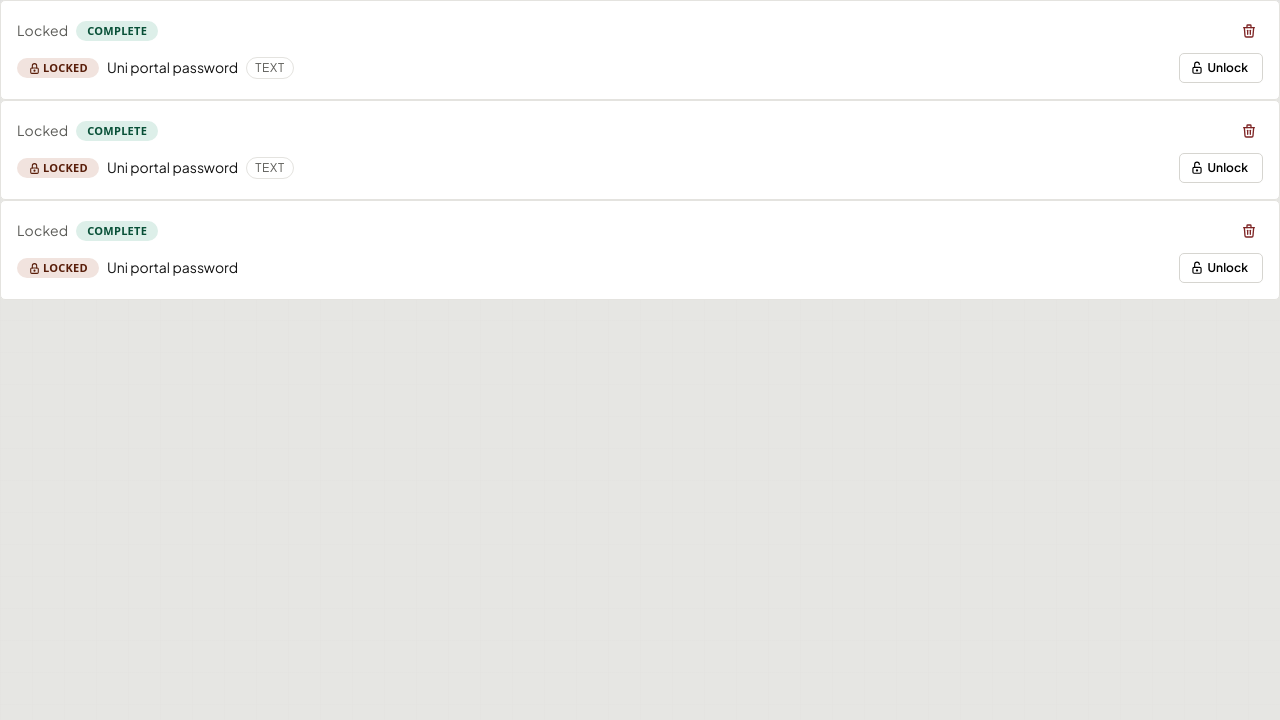
Test: SessionBoard item delegation (PLAN.md §9) › renders a locked row with its label and an Unlock affordance, and no password field until it is asked for
This screenshot has width=1280, height=720.
Expected: the element with class "locked-item__badge" showing "Locked" is shown, x1=17 y1=258 x2=99 y2=278
Click the 3rd button with class "locked-item__unlock" at (1221, 268), box x1=1179 y1=253 x2=1263 y2=283
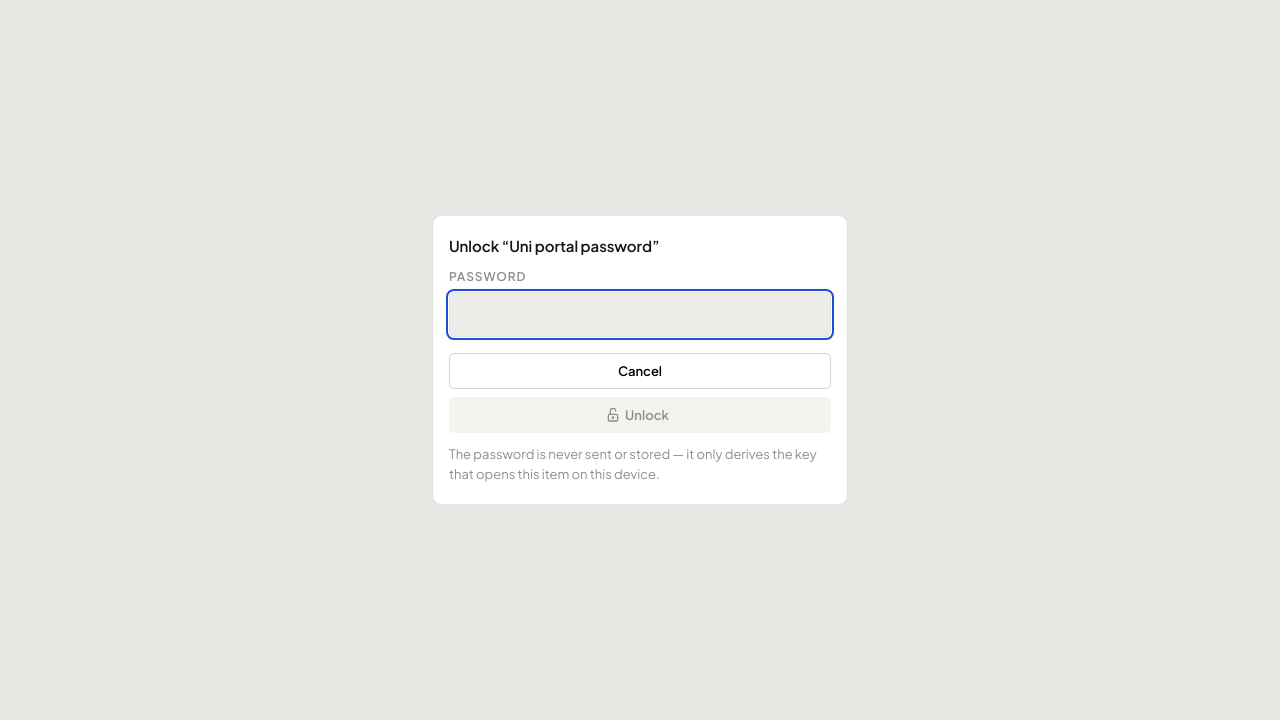
Result: the password field labelled "Password" is shown at x1=449 y1=292 x2=831 y2=337
